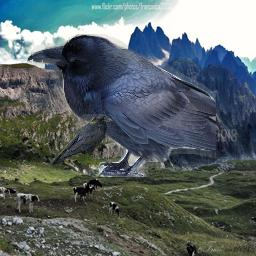Crow: (27, 34, 216, 177), (49, 114, 114, 166)
